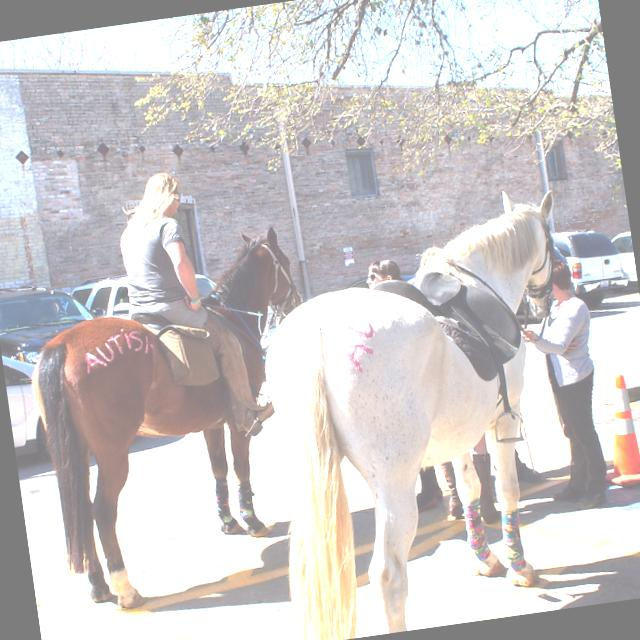Vehicle: (0, 280, 101, 371), (552, 222, 633, 314), (0, 321, 49, 463), (74, 278, 138, 326), (610, 230, 638, 287)
